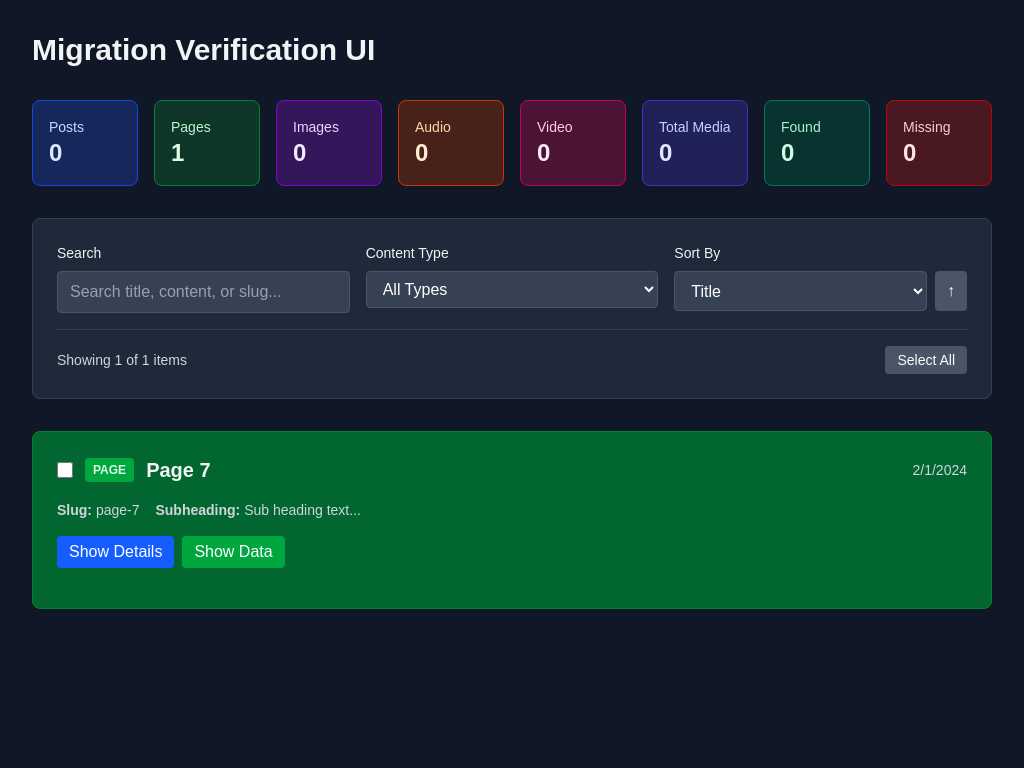
VerifyMigrationUI — details and data toggling › renders zero word count and zero block count for a page record in the details panel
This screenshot has width=1024, height=768.
Expected: the heading "Page 7" is shown, [146, 459, 211, 481]
Click the button "Show Details" at coordinates (116, 552), box [57, 536, 174, 568]
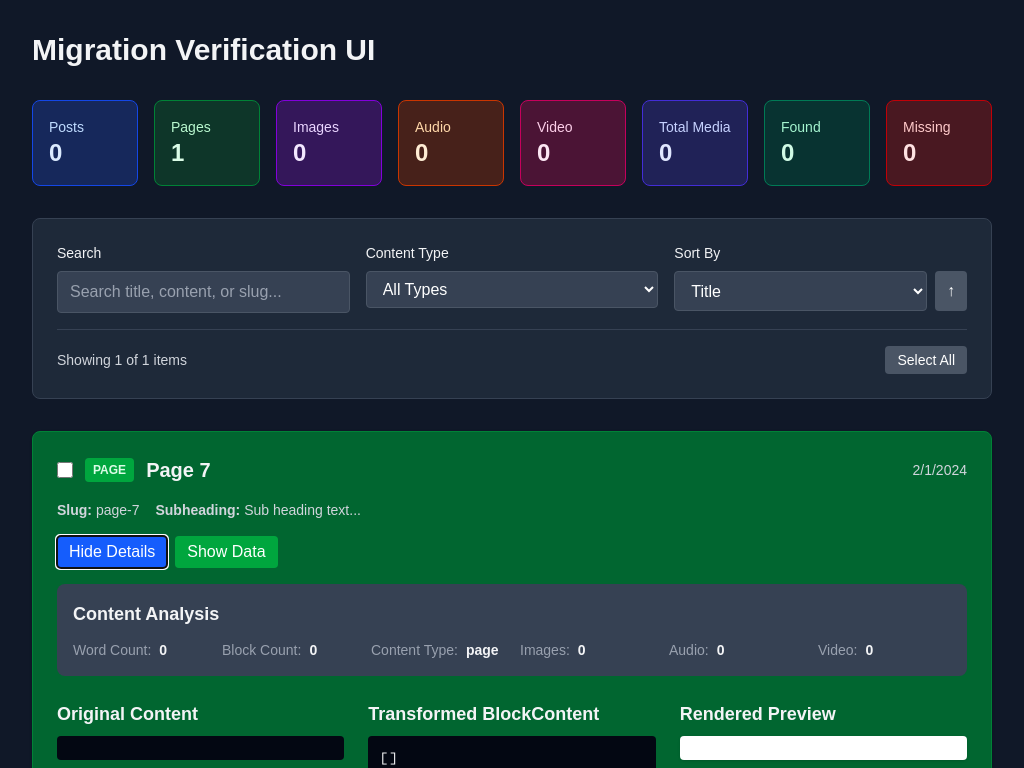
Now the text "Word Count:" is shown, box [73, 642, 151, 658]
